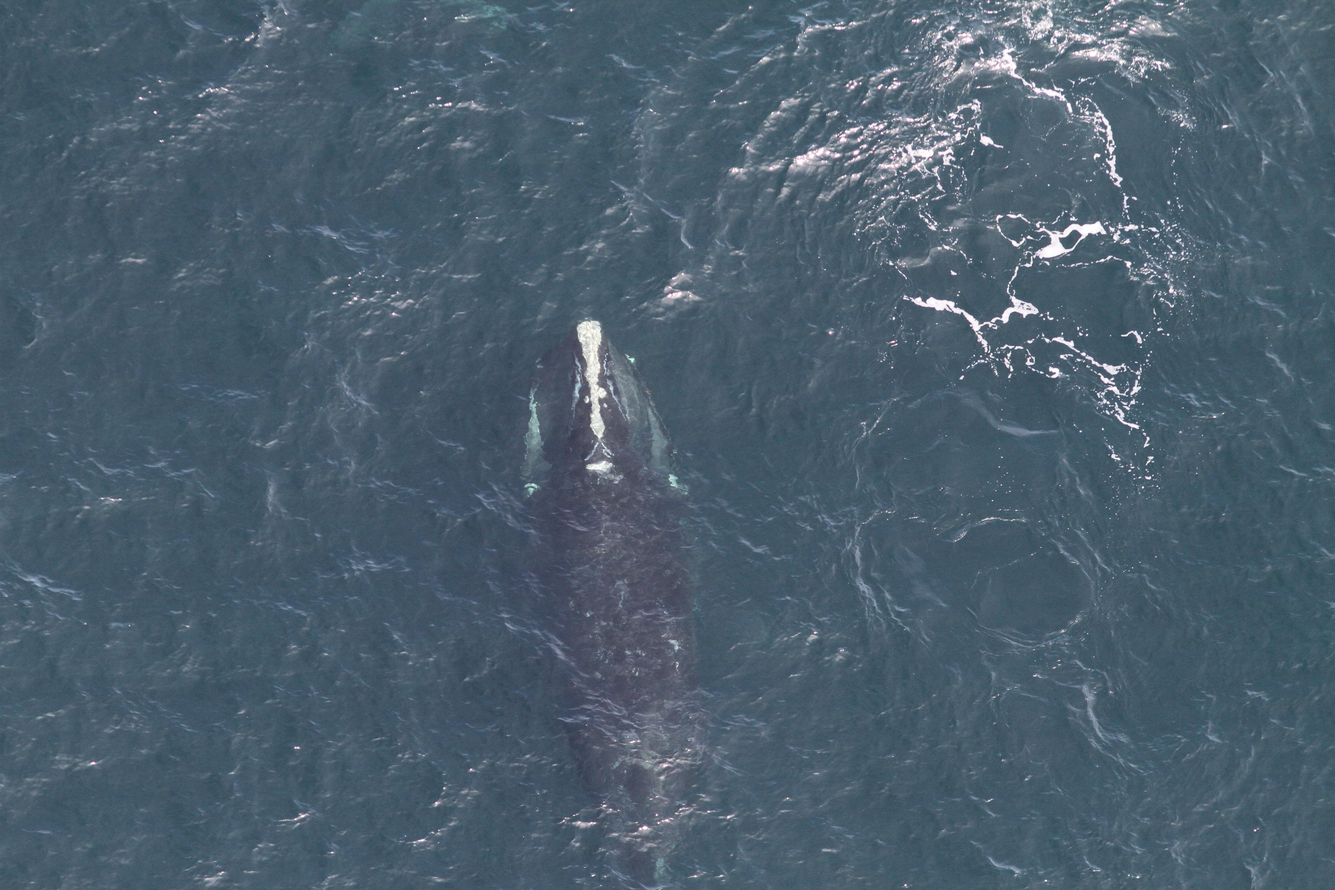whale: (493, 310, 736, 890)
